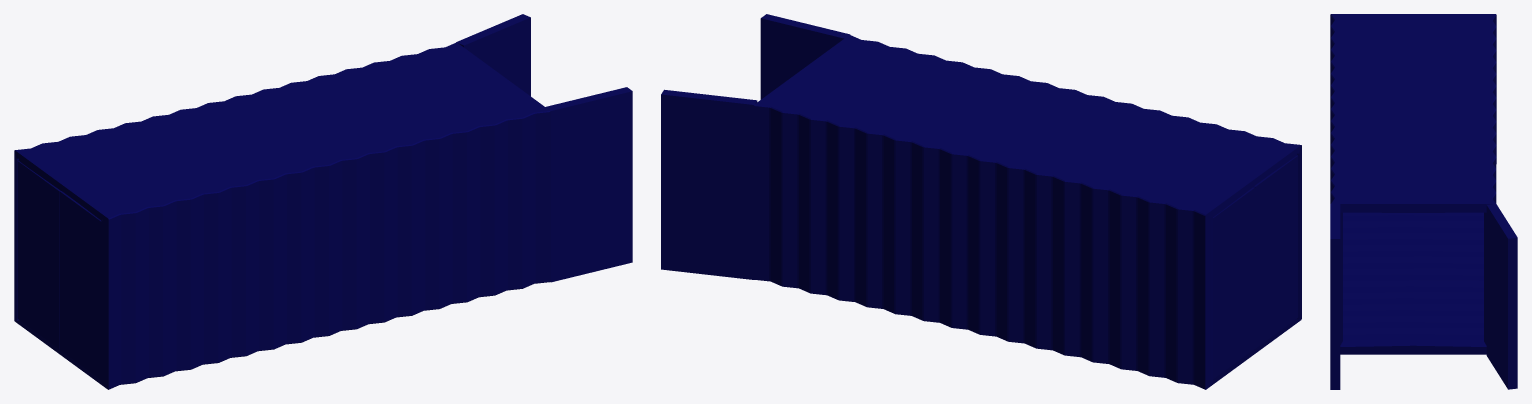
File: shipment_open_blue.glb
The picture shows the model from 3 angles, left to right: view 1: azimuth 30°, elevation 25°; view 2: azimuth 150°, elevation 25°; view 3: azimuth 270°, elevation 25°; orthographic projection. The views are drawn at different scales.
Parts seen in each view (by area): view 1: shipment_open_blue; view 2: shipment_open_blue; view 3: shipment_open_blue.
Boxes of the visible parts, x1=… form: shipment_open_blue: x1=14, y1=14, x2=632, y2=389; shipment_open_blue: x1=661, y1=14, x2=1301, y2=389; shipment_open_blue: x1=1330, y1=14, x2=1517, y2=389.
Bounding box in the file's own units: 6.43 × 2 × 2.25.
